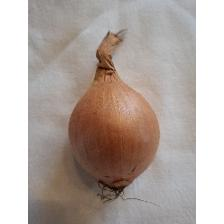Zwiebel: (67, 31, 163, 197)
